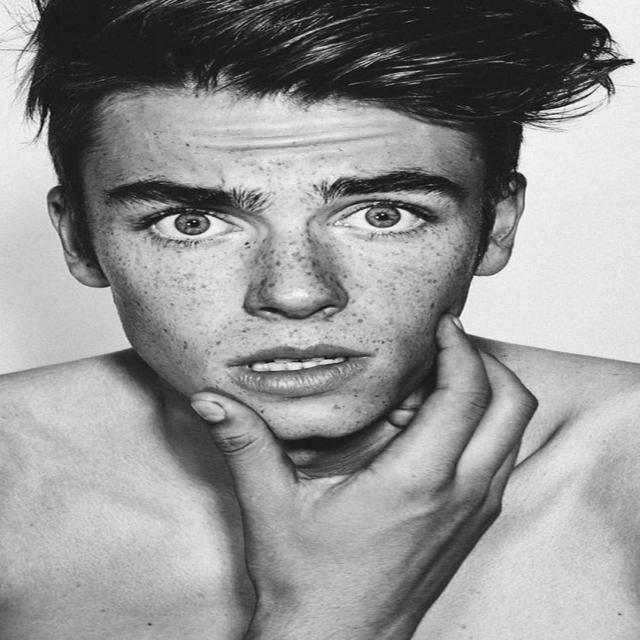earlobe: (47, 184, 108, 288), (472, 170, 527, 276)
